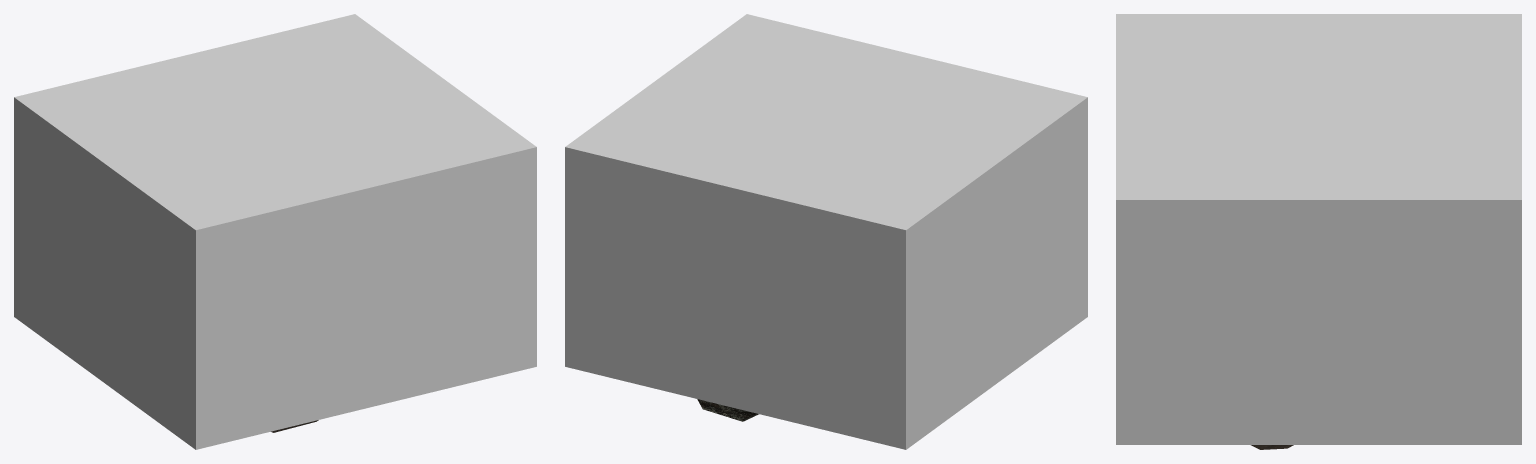
The model's file is rock_pile_closed.glb.
3 renders of one model, left to right at view 1: azimuth 30°, elevation 25°; view 2: azimuth 150°, elevation 25°; view 3: azimuth 270°, elevation 25°, orthographic. The views are drawn at different scales.
Visible parts, largest first — view 1: col_click; view 2: col_click, rock_pile_closed; view 3: col_click.
Boxes of the visible parts, x1,y1,x2,y2 form: col_click: (14, 14, 536, 449); col_click: (565, 14, 1087, 449); rock_pile_closed: (697, 399, 758, 421); col_click: (1116, 14, 1521, 444).
Size of the model in its own units: 1.3 by 0.9621 by 1.2.
2 materials, 2 textured.
